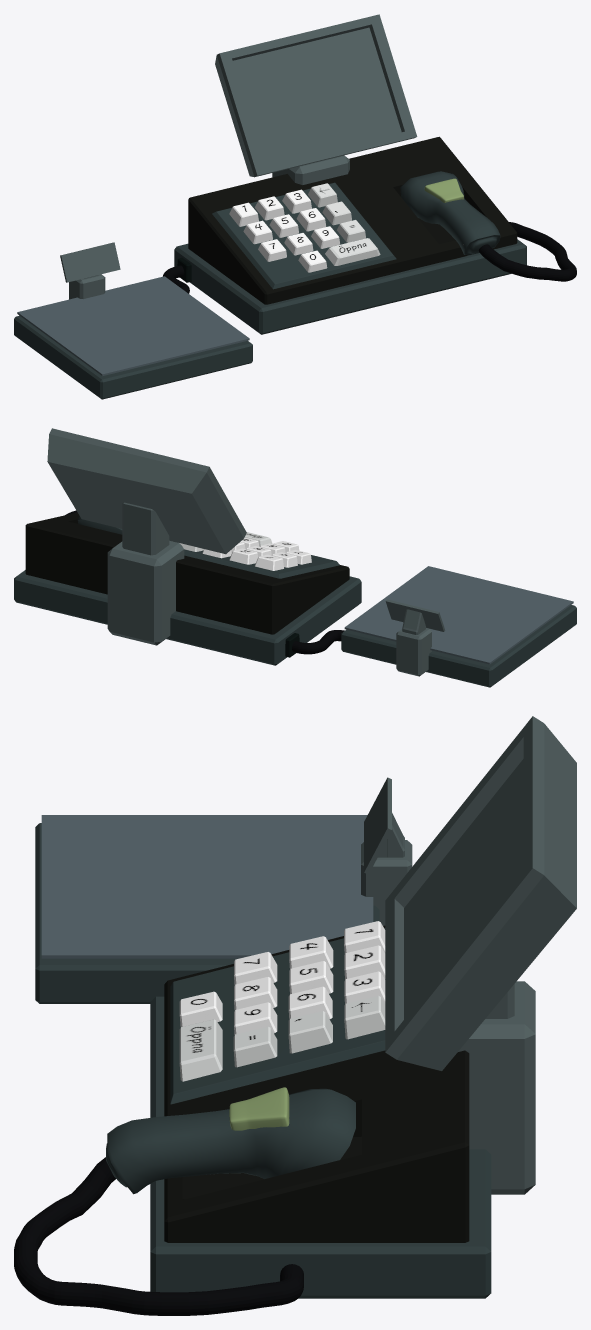
Rendered from kassa.fbx.
The picture shows the model from 3 angles, top to bottom: view 1: azimuth 30°, elevation 25°; view 2: azimuth 150°, elevation 25°; view 3: azimuth 270°, elevation 25°; orthographic projection. The views are drawn at different scales.
Visible parts, largest first — view 1: kasama; view 2: kasama; view 3: kasama.
Boxes of the visible parts, <box> form: kasama: <box>14,14,576,399</box>; kasama: <box>14,428,576,687</box>; kasama: <box>14,716,576,1315</box>.
Size of the model in its own units: 3.08 by 1.18 by 1.56.
